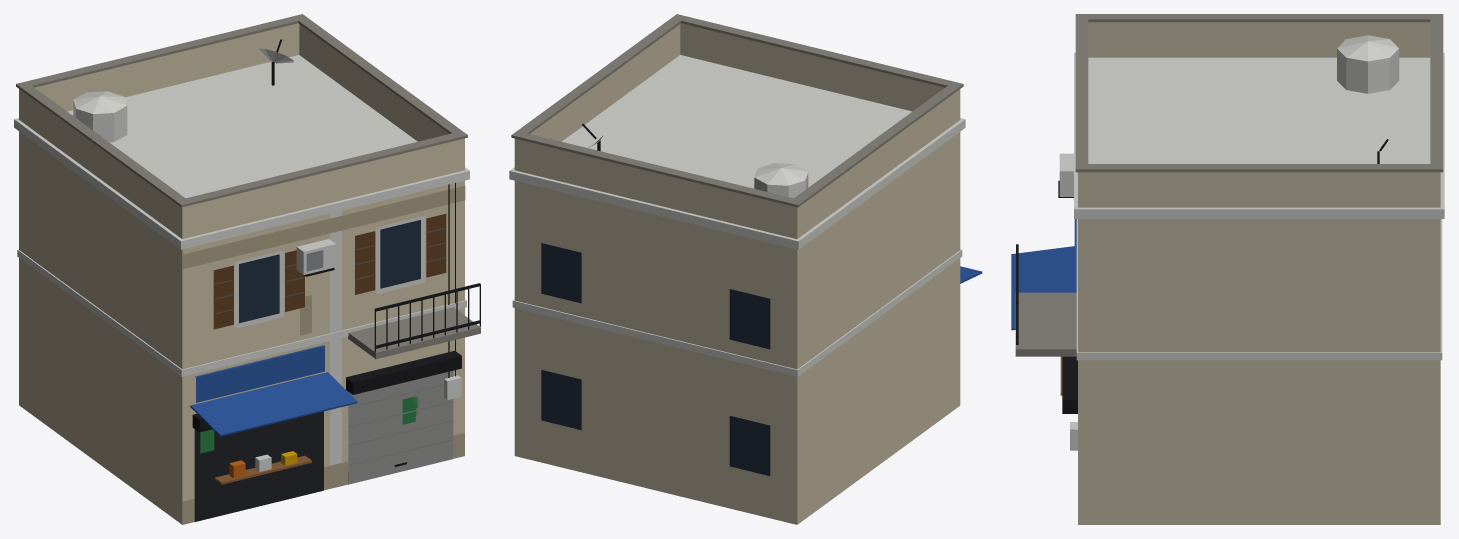
The model's file is bld_castel-row_b.113cec625897.glb.
3 views of the same model, side by side, from view 1: azimuth 30°, elevation 25°; view 2: azimuth 150°, elevation 25°; view 3: azimuth 270°, elevation 25° (orthographic). The views are drawn at different scales.
Parts seen in each view (by area): view 1: body; view 2: body; view 3: body.
Part boxes in pixels (x1,y1,x2,y2): body: [14, 14, 480, 524]; body: [509, 14, 982, 524]; body: [1011, 14, 1444, 524].
Bounding box in the file's own units: 7.16 × 7.71 × 8.37.
